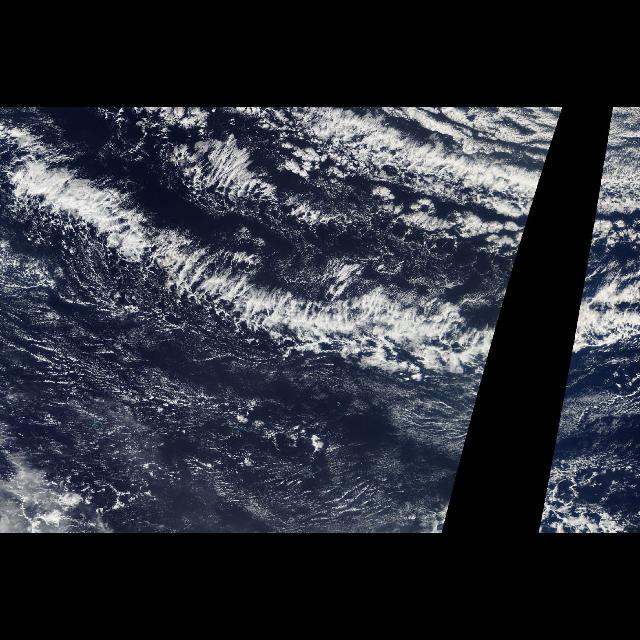Fish: (4, 160, 478, 366)
Sugar: (237, 376, 479, 530)
